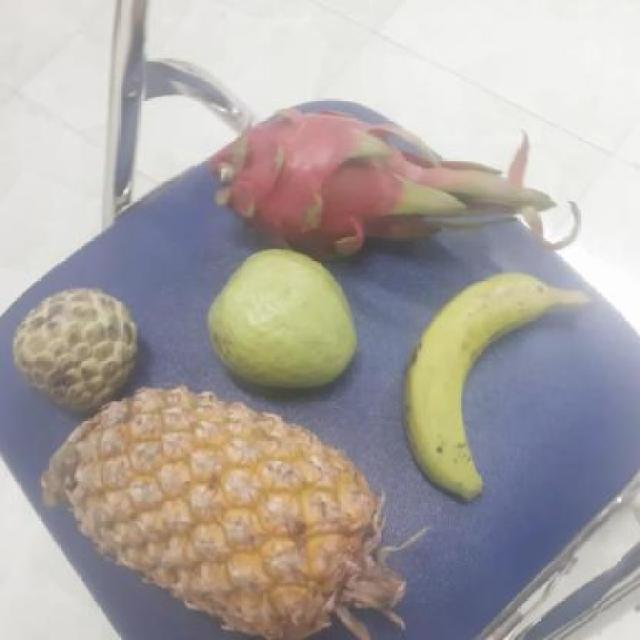banana: (406, 274, 577, 498)
dragon fruit: (212, 100, 443, 255)
guava: (208, 251, 362, 388)
pineapple: (58, 388, 400, 635)
sugar apple: (9, 290, 152, 415)
